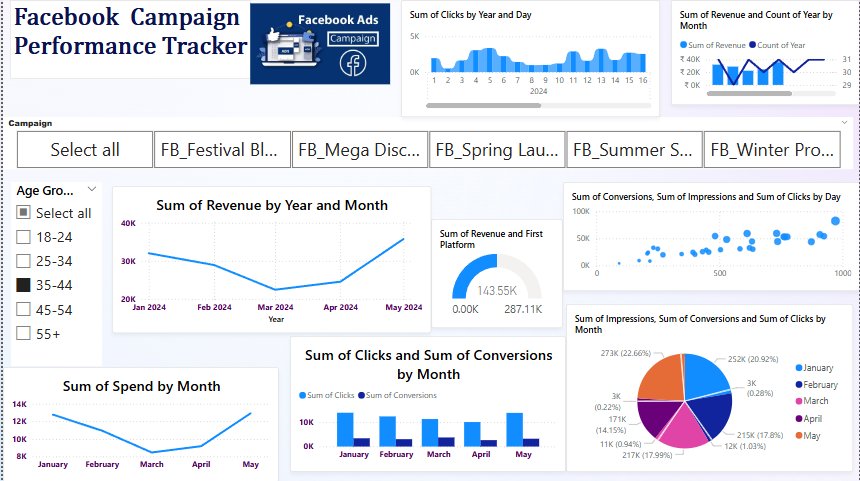

Layout of this report page (visuals, bound fields, positions):
{"tool":"powerbi","page":{"name":" Page 2","canvas":[1280,720],"ordinal":1},"visuals":[{"type":"textbox","box":[10.5,0,360,118],"z":0},{"type":"image","box":[288.3,0,372,131.5],"z":1000},{"type":"lineStackedColumnComboChart","fields":{"Category":["Sheet1.Date.Variation.Date Hierarchy.Month","Sheet1.Date.Variation.Date Hierarchy.Day"],"Y":["Sum(Sheet1.Revenue)"],"Y2":["CountNonNull(Sheet1.Date.Variation.Date Hierarchy.Year)"]},"box":[997.8,0,282.3,156.8],"z":3000},{"type":"slicer","fields":{"Values":["Sheet1.Campaign"]},"box":[0,174.8,1269.7,77.7],"z":4000},{"type":"slicer","fields":{"Values":["Sheet1.Age Group"]},"box":[12,271.9,135.9,274.9],"z":5000},{"type":"pieChart","fields":{"Category":["Sheet1.Date.Variation.Date Hierarchy.Month"],"Y":["Sum(Sheet1.Impressions)","Sum(Sheet1.Conversions)","Sum(Sheet1.Clicks)"]},"box":[841,454.1,428.7,251],"z":6000},{"type":"gauge","fields":{"Y":["Sum(Sheet1.Revenue)"]},"box":[639.3,327.1,197.2,162.8],"z":7000},{"type":"ribbonChart","fields":{"Y":["Sum(Sheet1.Clicks)"],"Category":["Sheet1.Date.Variation.Date Hierarchy.Year","Sheet1.Date.Variation.Date Hierarchy.Day"]},"box":[594.5,0,386.9,174.8],"z":8000},{"type":"scatterChart","fields":{"X":["Sum(Sheet1.Conversions)"],"Category":["Sheet1.Date.Variation.Date Hierarchy.Day"],"Y":["Sum(Sheet1.Impressions)"],"Size":["Sum(Sheet1.Clicks)"]},"box":[836.5,271.9,443.7,162.8],"z":9000},{"type":"lineChart","fields":{"Category":["Sheet1.Date.Variation.Date Hierarchy.Year","Sheet1.Date.Variation.Date Hierarchy.Month"],"Y":["Sum(Sheet1.Revenue)"]},"box":[162.8,277.8,476.5,219.6],"z":10000},{"type":"lineChart","fields":{"Category":["Sheet1.Date.Variation.Date Hierarchy.Month"],"Y":["Sum(Sheet1.Spend)"]},"box":[0,548.2,412.3,171.8],"z":11000},{"type":"clusteredColumnChart","fields":{"Category":["Sheet1.Date.Variation.Date Hierarchy.Month"],"Y":["Sum(Sheet1.Clicks)","Sum(Sheet1.Conversions)"]},"box":[428.7,501.9,412.3,203.2],"z":12000}]}

Visuals, with their boxes in screenshot pixels (x1, y1, x2, y2), scaled from the page's 1280x720 canvas onto the 860x481 screenshot:
textbox: <bbox>7, 0, 249, 79</bbox>
image: <bbox>194, 0, 444, 88</bbox>
lineStackedColumnComboChart - Sheet1.Date.Variation.Date Hierarchy.Month x Sheet1.Date.Variation.Date Hierarchy.Day: <bbox>670, 0, 859, 105</bbox>
slicer - Sheet1.Campaign: <bbox>0, 117, 853, 169</bbox>
slicer - Sheet1.Age Group: <bbox>8, 182, 99, 365</bbox>
pieChart - Sheet1.Date.Variation.Date Hierarchy.Month x Sum(Sheet1.Impressions): <bbox>565, 303, 853, 471</bbox>
gauge - Sum(Sheet1.Revenue): <bbox>430, 219, 562, 327</bbox>
ribbonChart - Sum(Sheet1.Clicks) x Sheet1.Date.Variation.Date Hierarchy.Year: <bbox>399, 0, 659, 117</bbox>
scatterChart - Sum(Sheet1.Conversions) x Sheet1.Date.Variation.Date Hierarchy.Day: <bbox>562, 182, 859, 290</bbox>
lineChart - Sheet1.Date.Variation.Date Hierarchy.Year x Sheet1.Date.Variation.Date Hierarchy.Month: <bbox>109, 186, 430, 332</bbox>
lineChart - Sheet1.Date.Variation.Date Hierarchy.Month x Sum(Sheet1.Spend): <bbox>0, 366, 277, 480</bbox>
clusteredColumnChart - Sheet1.Date.Variation.Date Hierarchy.Month x Sum(Sheet1.Clicks): <bbox>288, 335, 565, 471</bbox>
